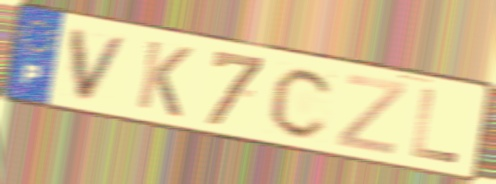7: (202, 48, 268, 128)
C: (266, 64, 338, 140)
K: (133, 37, 195, 121)
L: (408, 86, 460, 167)
V: (67, 27, 134, 105)
Z: (334, 71, 410, 157)
